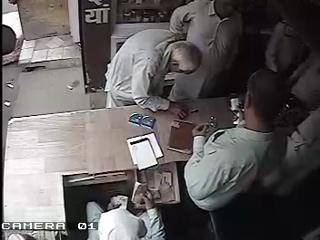Normal: (183, 69, 293, 240), (104, 28, 202, 115), (168, 0, 245, 102), (96, 186, 168, 239)
